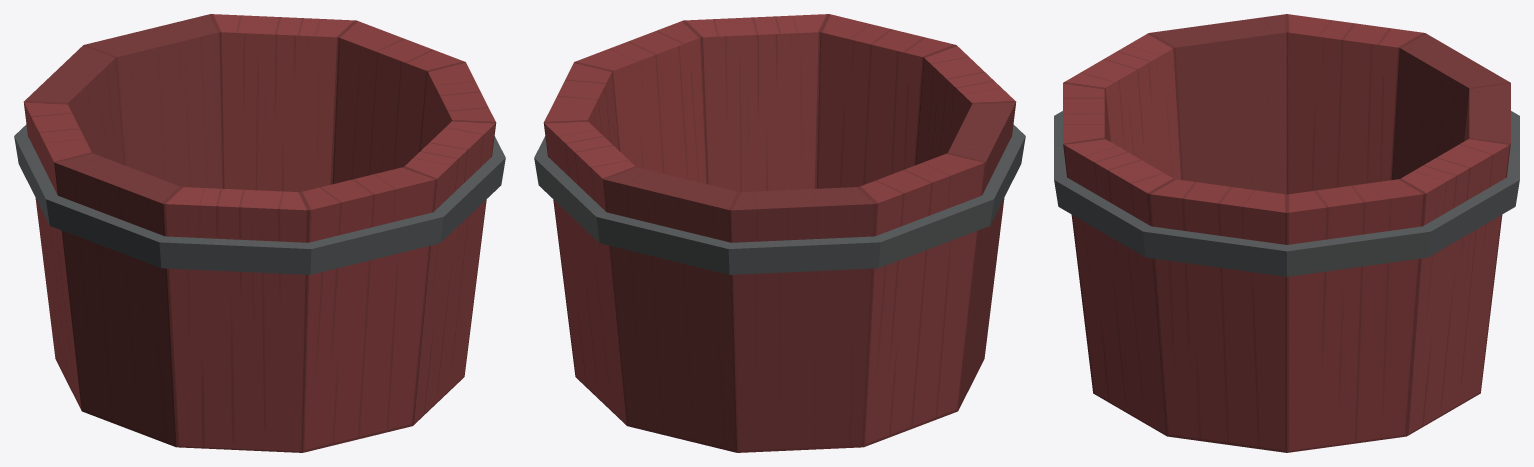
The model's file is Basket 02.fbx.
The picture shows the model from 3 angles, left to right: view 1: azimuth 30°, elevation 25°; view 2: azimuth 150°, elevation 25°; view 3: azimuth 270°, elevation 25°; orthographic projection.
Parts seen in each view (by area): view 1: Basket_02; view 2: Basket_02; view 3: Basket_02.
Part boxes in pixels (left/top/right/bottom): Basket_02: left=14, top=14, right=505, bottom=452; Basket_02: left=534, top=14, right=1025, bottom=452; Basket_02: left=1054, top=14, right=1519, bottom=452.
Size of the model in its own units: 90.05 by 51.39 by 85.65.
